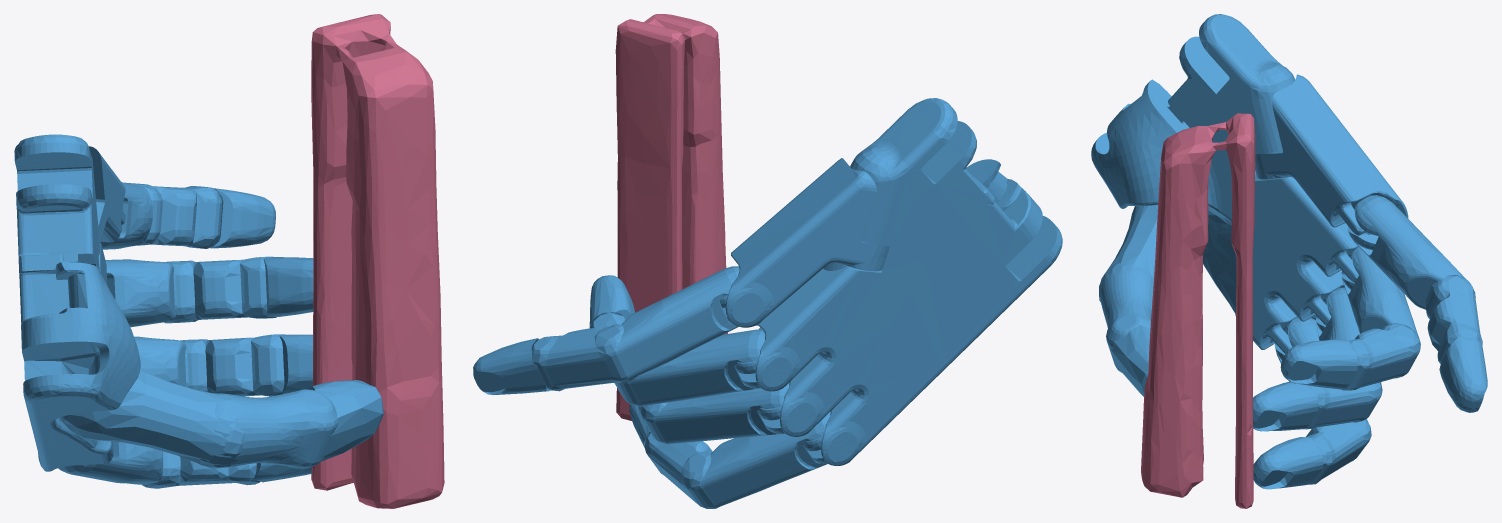
3 renders of one model, left to right at view 1: azimuth 30°, elevation 25°; view 2: azimuth 150°, elevation 25°; view 3: azimuth 270°, elevation 25°, orthographic. The views are drawn at different scales.
Visible parts, largest first — view 1: 5; view 2: 5; view 3: 5.
Boxes of the visible parts, x1,y1,x2,y2 form: 5: (14, 14, 444, 508); 5: (473, 14, 1062, 508); 5: (1091, 14, 1487, 508).
Size of the model in its own units: 0.1565 by 0.1558 by 0.1439.
